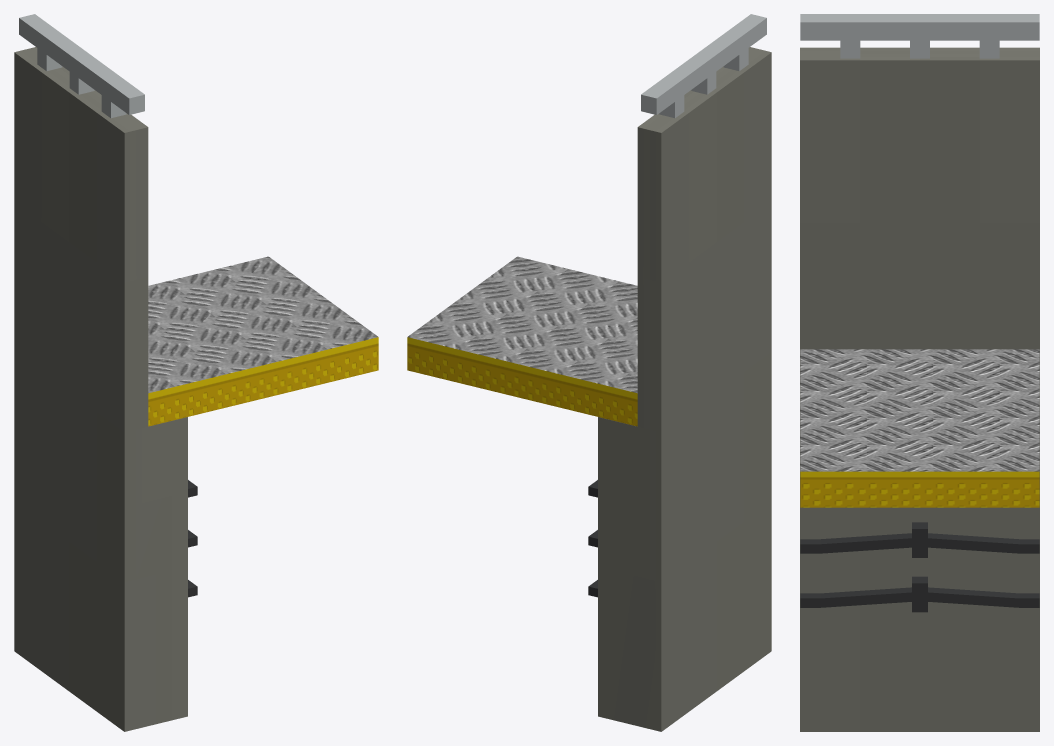
Rendered from ex_brbar_mr.obj.
The picture shows the model from 3 angles, left to right: view 1: azimuth 30°, elevation 25°; view 2: azimuth 150°, elevation 25°; view 3: azimuth 270°, elevation 25°; orthographic projection. The views are drawn at different scales.
Parts seen in each view (by area): view 1: BridgeBarRight; view 2: BridgeBarRight; view 3: BridgeBarRight.
Boxes of the visible parts, x1=… form: BridgeBarRight: x1=14, y1=14, x2=378, y2=731; BridgeBarRight: x1=407, y1=14, x2=771, y2=731; BridgeBarRight: x1=800, y1=14, x2=1039, y2=731.
Bounding box in the file's own units: 0.8 × 1.9 × 0.601.
5 materials, 5 textured.
